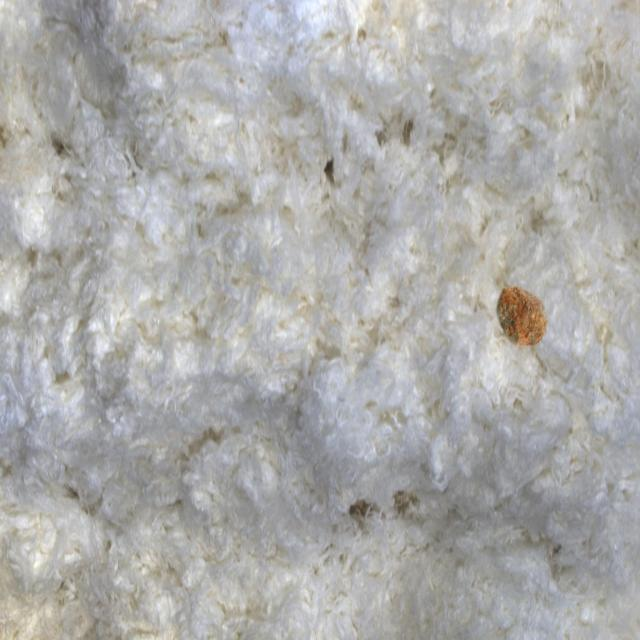dust: (475, 258, 577, 377)
